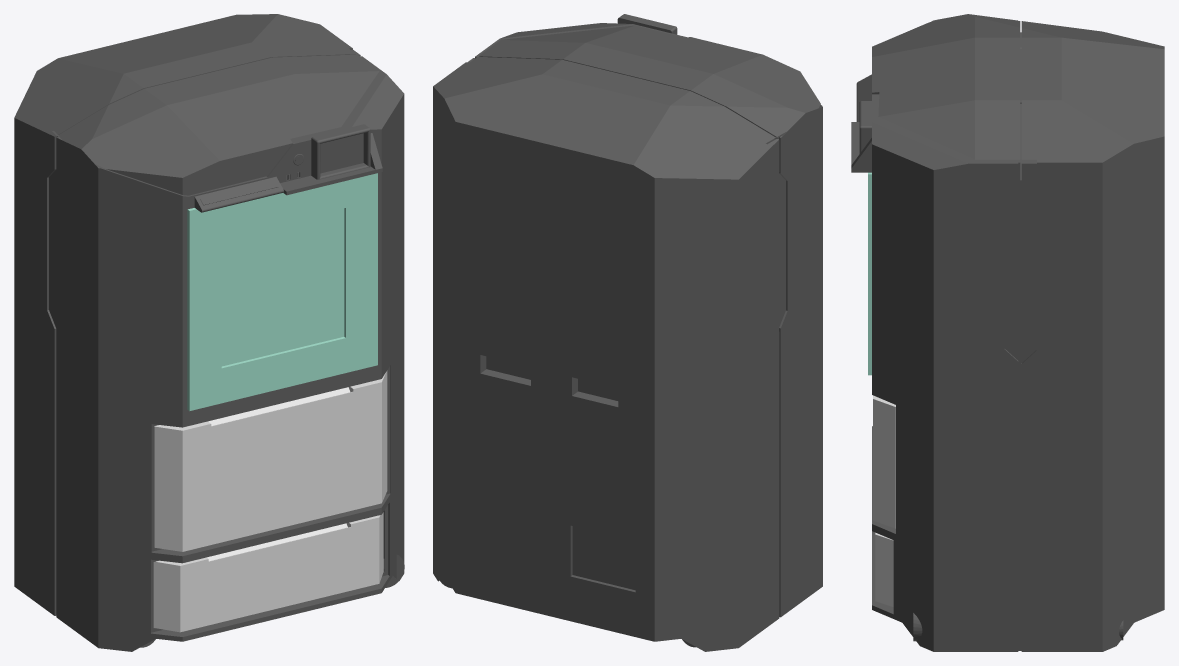
The model's file is stratasys.dae.
The picture shows the model from 3 angles, left to right: view 1: azimuth 30°, elevation 25°; view 2: azimuth 150°, elevation 25°; view 3: azimuth 270°, elevation 25°; orthographic projection.
Visible parts, largest first — view 1: node0, node3, node4, node5; view 2: node0; view 3: node0, node4, node5, node3.
Boxes of the visible parts, x1,y1,x2,y2 form: node0: (14,14,404,651); node3: (187,173,377,411); node4: (154,370,387,551); node5: (153,512,383,632); node0: (433,14,822,651); node0: (851,14,1164,651); node4: (873,395,895,528); node5: (875,532,893,606); node3: (868,172,871,375).
Bounding box in the file's own units: 0.86 × 0.76 × 1.36.
